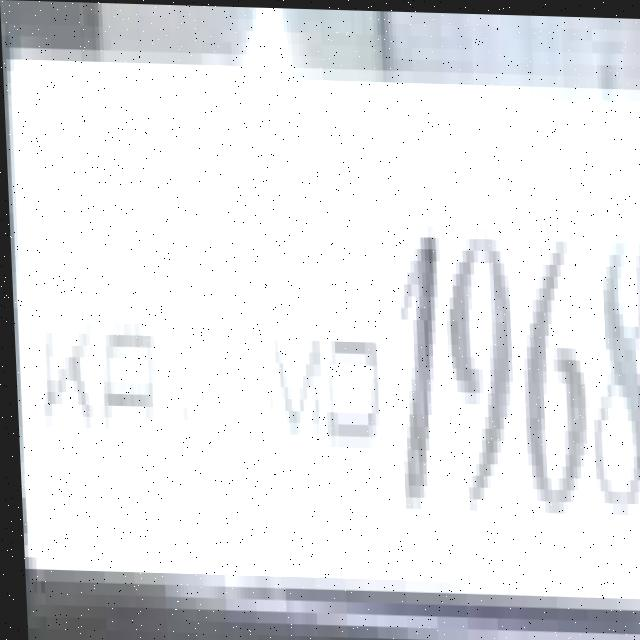plate: (5, 36, 640, 607)
